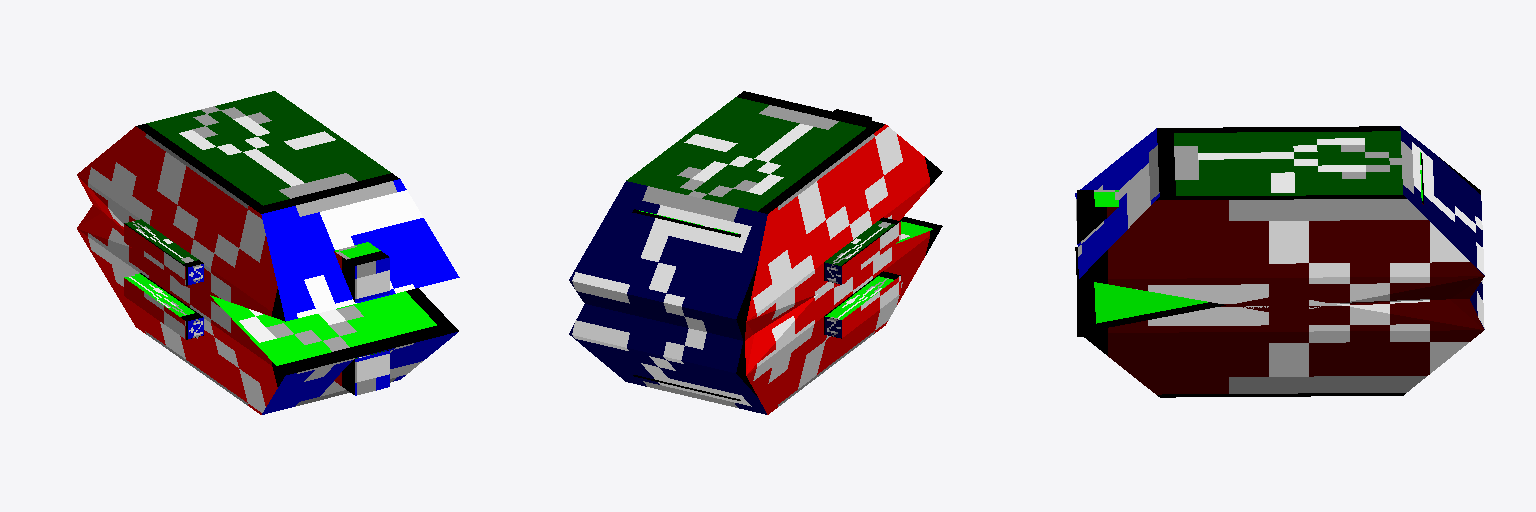
3 renders of one model, left to right at view 1: azimuth 30°, elevation 25°; view 2: azimuth 150°, elevation 25°; view 3: azimuth 270°, elevation 25°, orthographic.
Visible parts, largest first — view 1: Cube.001, Cube; view 2: Cube.001, Cube; view 3: Cube.001, Cube.
Boxes of the visible parts, x1,y1,x2,y2 form: Cube.001: [77, 91, 459, 395]; Cube: [77, 205, 458, 414]; Cube.001: [569, 91, 942, 400]; Cube: [569, 109, 942, 414]; Cube.001: [1075, 126, 1484, 336]; Cube: [1075, 152, 1484, 397].
Bounding box in the file's own units: 1.17 × 1.09 × 2.02.
1 materials, 1 textured.